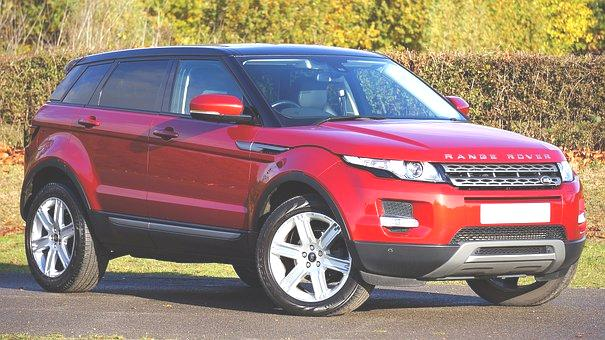range rover: (437, 145, 556, 167)
